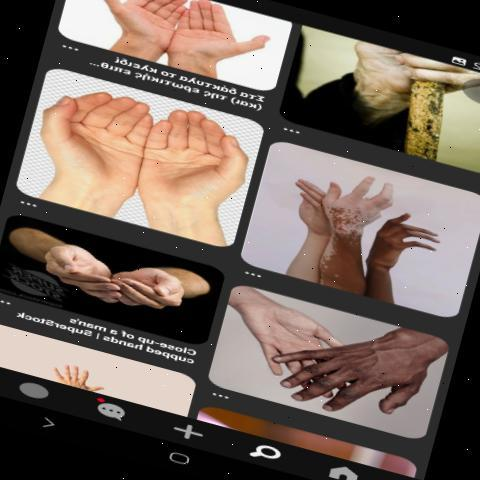Hands: (264, 324, 447, 423), (17, 89, 153, 214), (136, 96, 256, 236), (316, 159, 404, 272), (162, 4, 281, 72)
